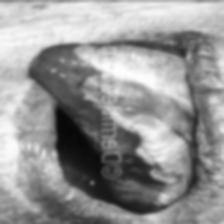Potentially Malignant Skin Tumors: (138, 158, 186, 200), (137, 43, 190, 78)
